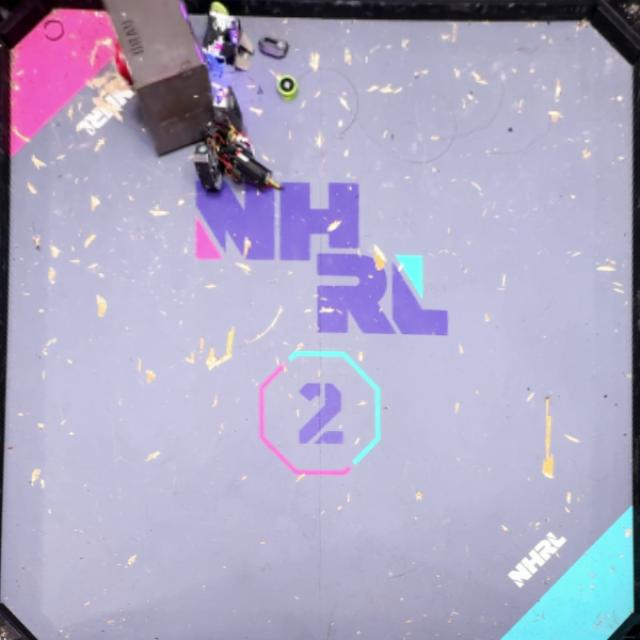housebot: (101, 0, 219, 157)
robot: (195, 85, 284, 195), (199, 0, 254, 71)
